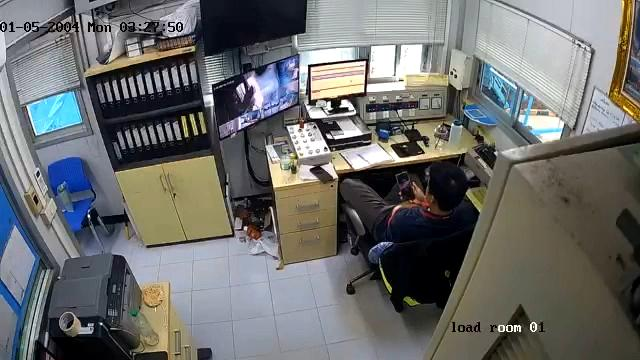Head: (424, 162, 469, 208)
People: (341, 159, 476, 235)
Phone: (396, 171, 415, 201), (309, 165, 334, 182)
